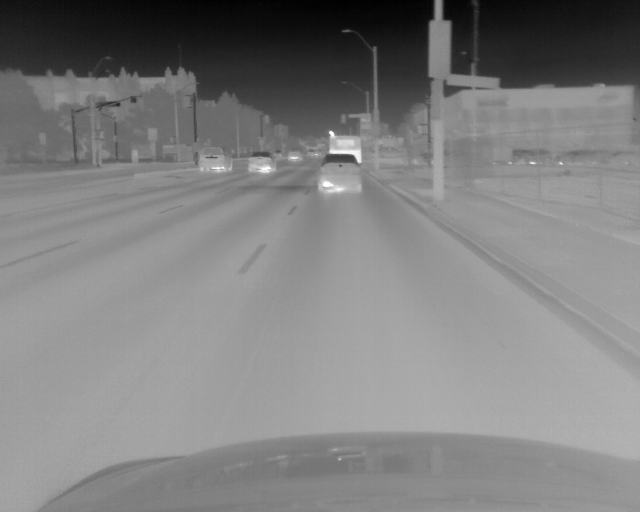car: (318, 154, 363, 193), (329, 135, 362, 165), (196, 145, 233, 171), (554, 149, 597, 167), (507, 148, 549, 165), (248, 151, 278, 174), (287, 150, 303, 164)
